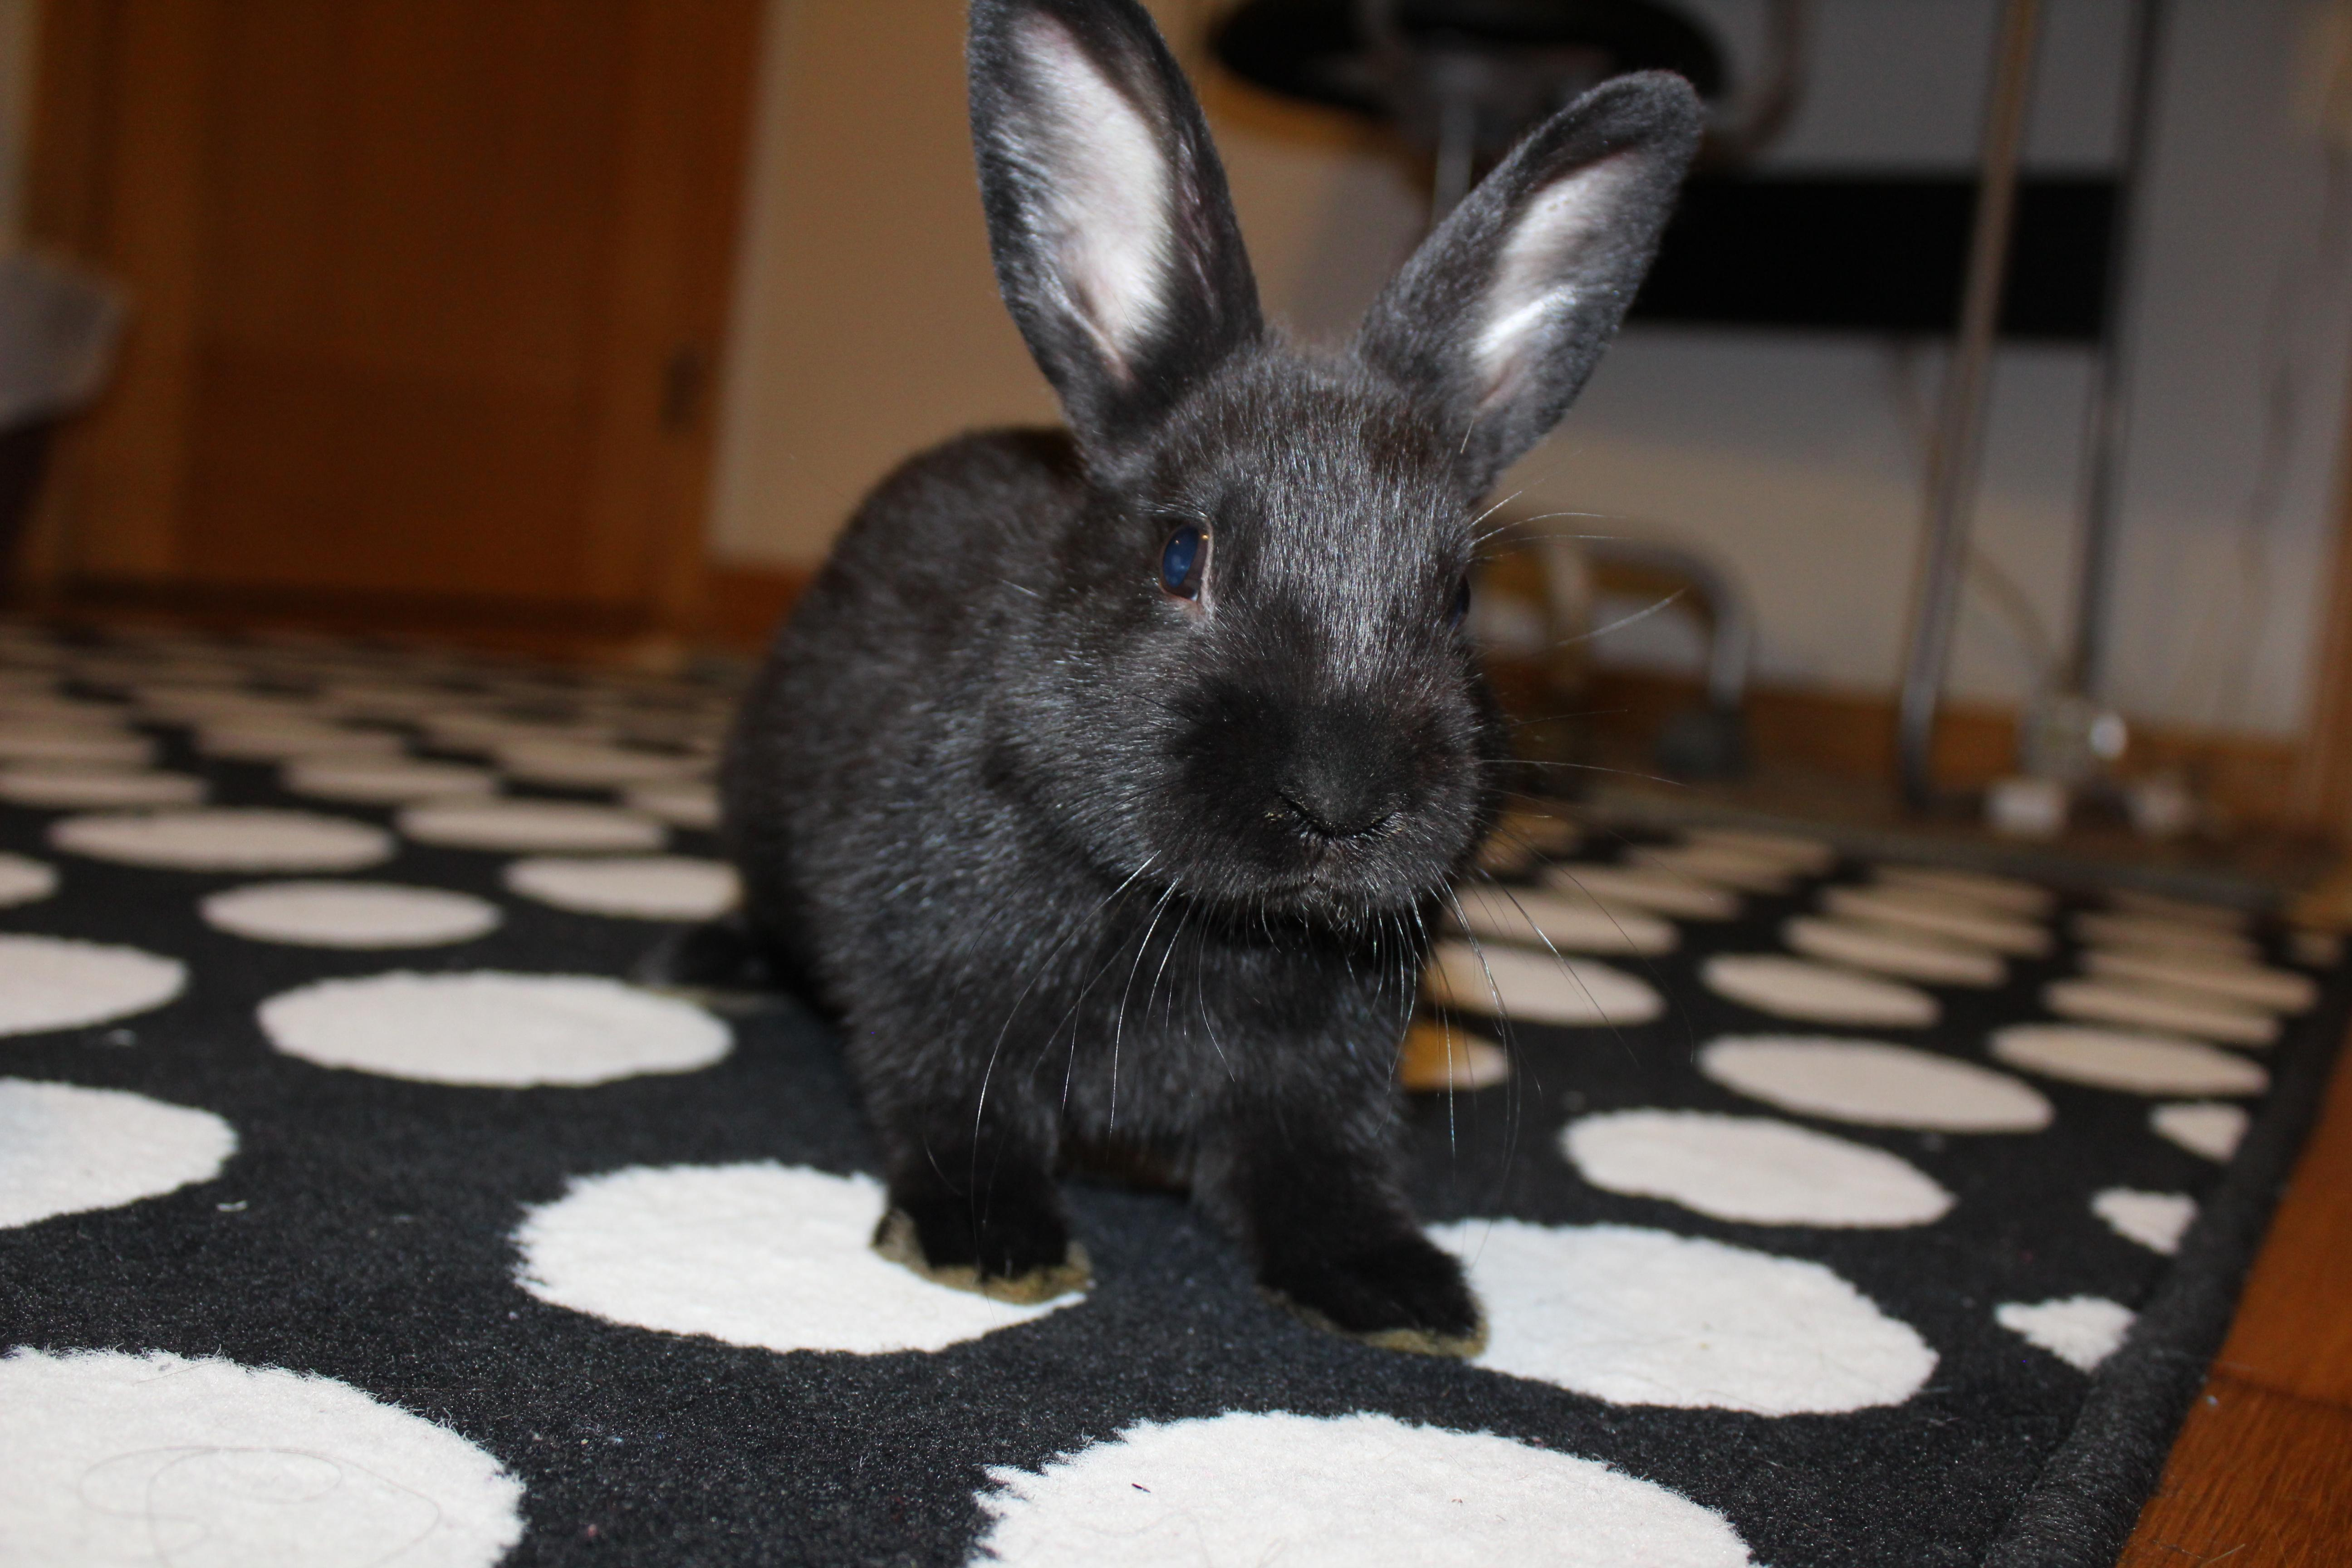bunny: (637, 7, 1726, 1379)
